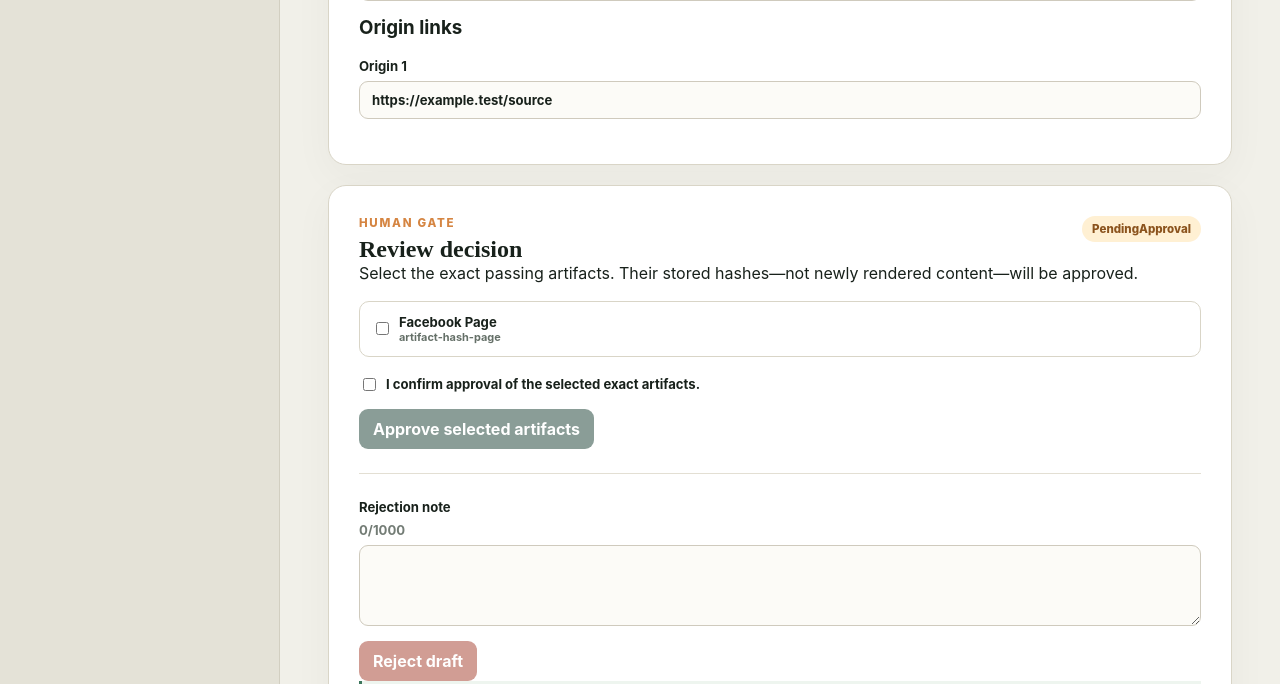
Test: Review dashboard UI › requires exact selection and confirmation before exposing immutable export
(page scrolled)
Expected: the heading "Review decision" is shown, left=359, top=236, right=522, bottom=263
Expected: the button "Approve selected artifacts" is disabled, left=359, top=409, right=594, bottom=449
Click the checkbox labelled "Facebook Page artifact-hash-page" at (382, 329), box left=376, top=322, right=389, bottom=335
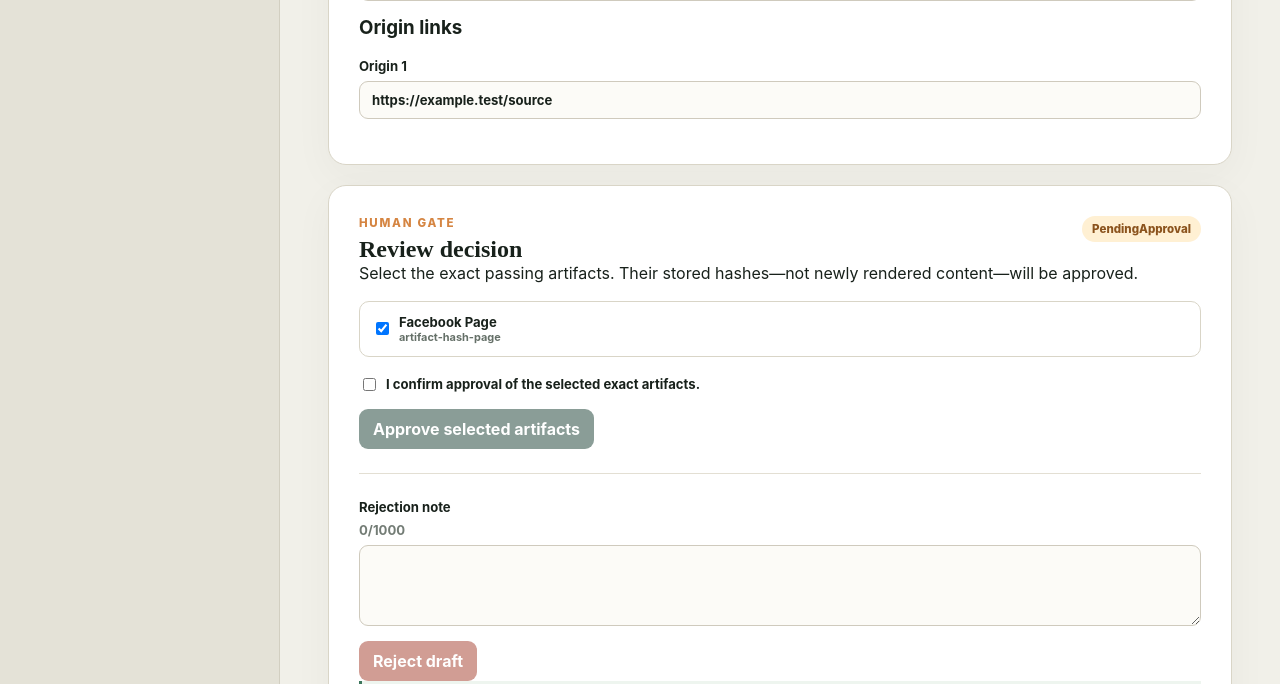
Expected: the button "Approve selected artifacts" is disabled, left=359, top=409, right=594, bottom=449
Click the checkbox labelled "I confirm approval of the selected exact artifacts." at (370, 384), box left=363, top=378, right=376, bottom=391
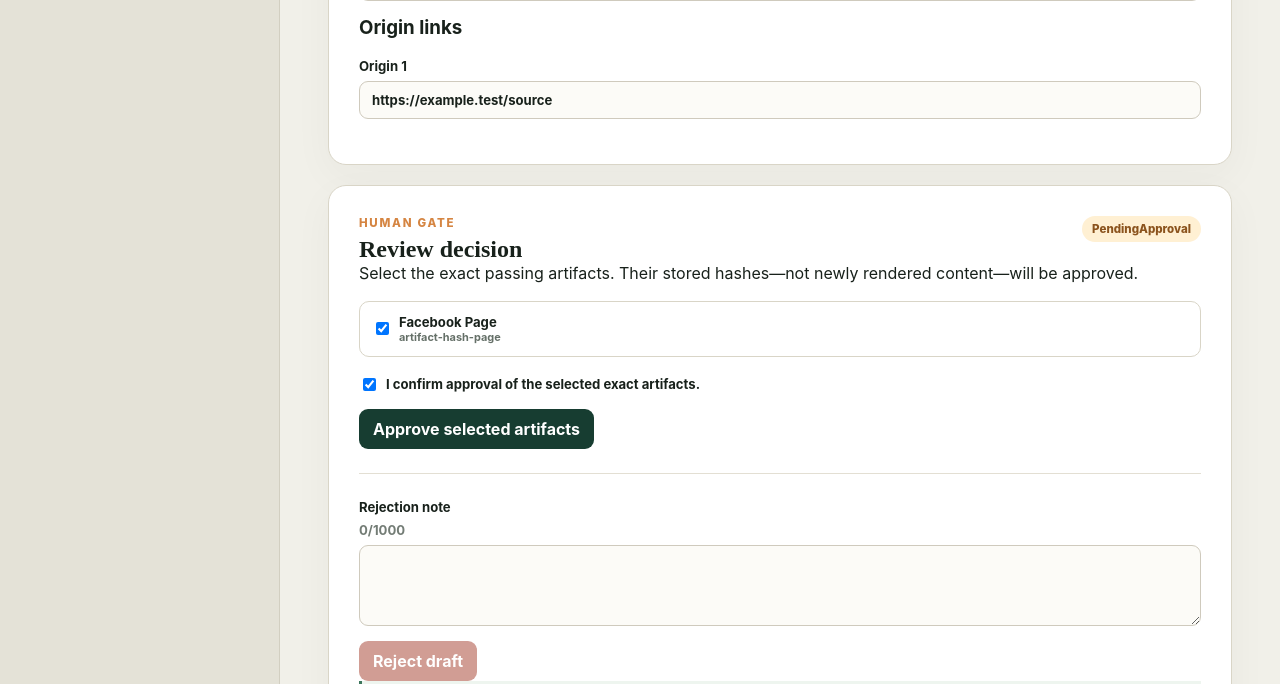
Click the button "Approve selected artifacts" at (476, 429), box left=359, top=409, right=594, bottom=449
(page scrolled)
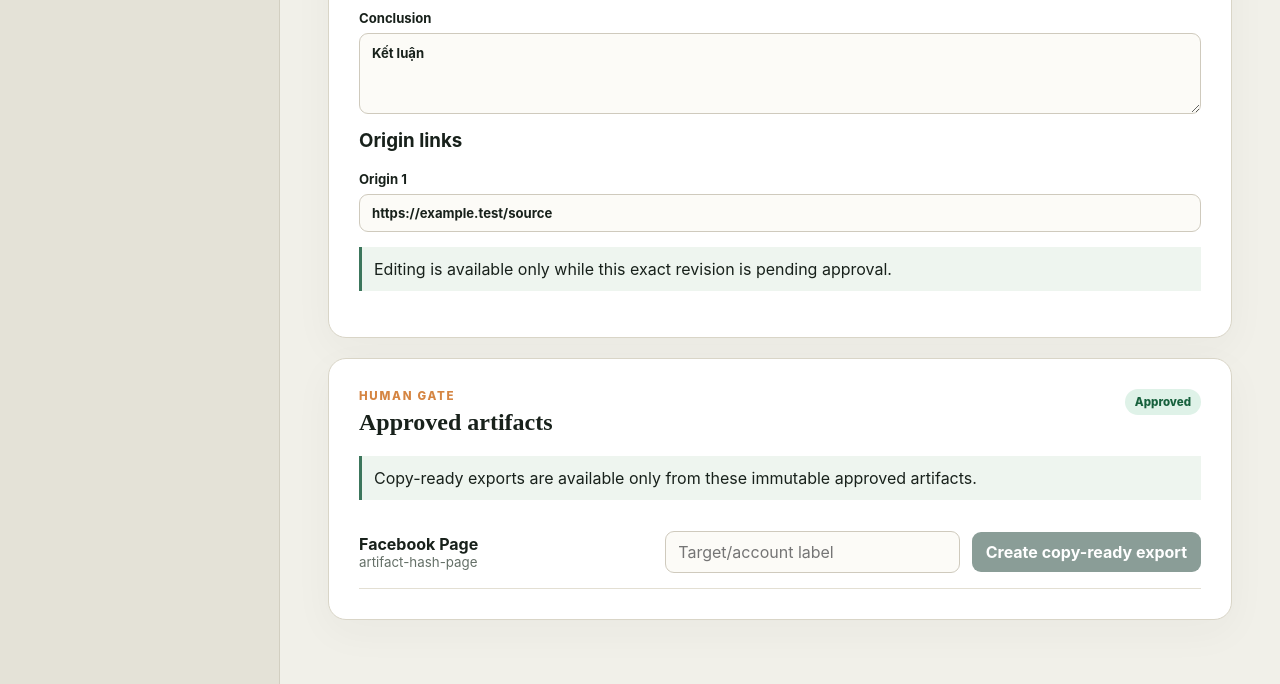
Result: the heading "Approved artifacts" is shown at left=359, top=409, right=552, bottom=436
Type "page-main" into the field named "Target for Facebook_Page" at (812, 552), box left=665, top=531, right=960, bottom=573
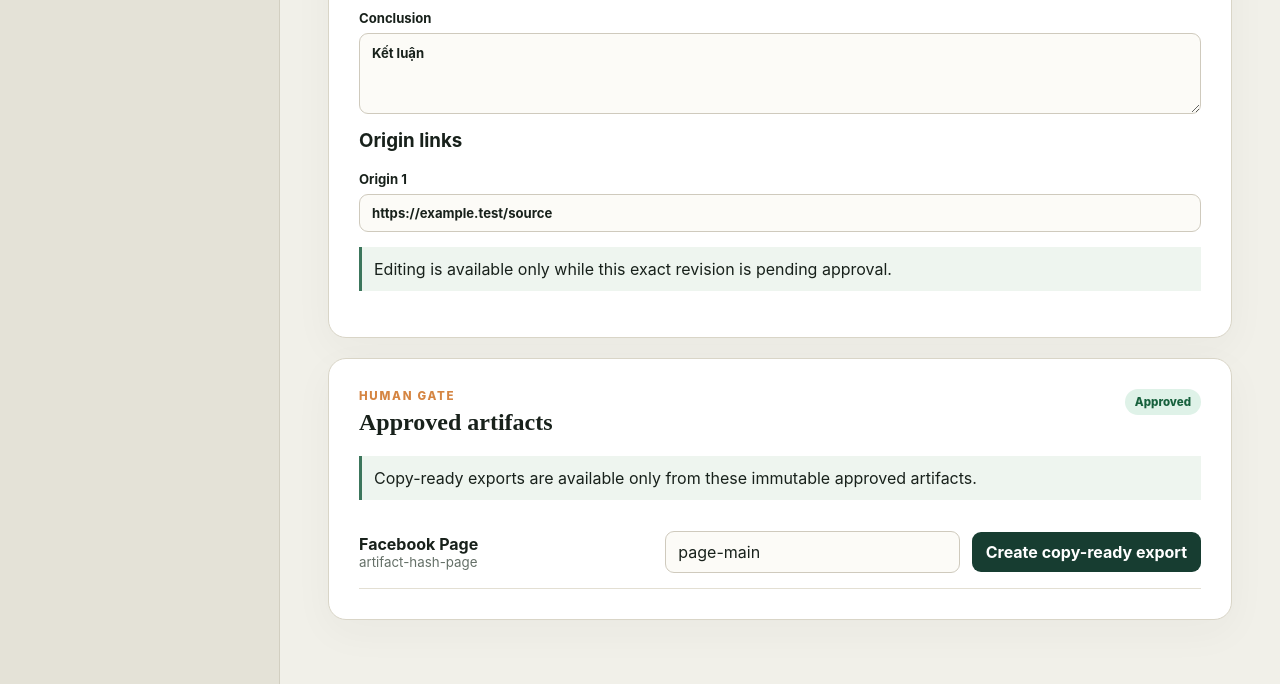
Click the button "Create copy-ready export" at (1086, 552), box left=972, top=532, right=1201, bottom=572
(page scrolled)
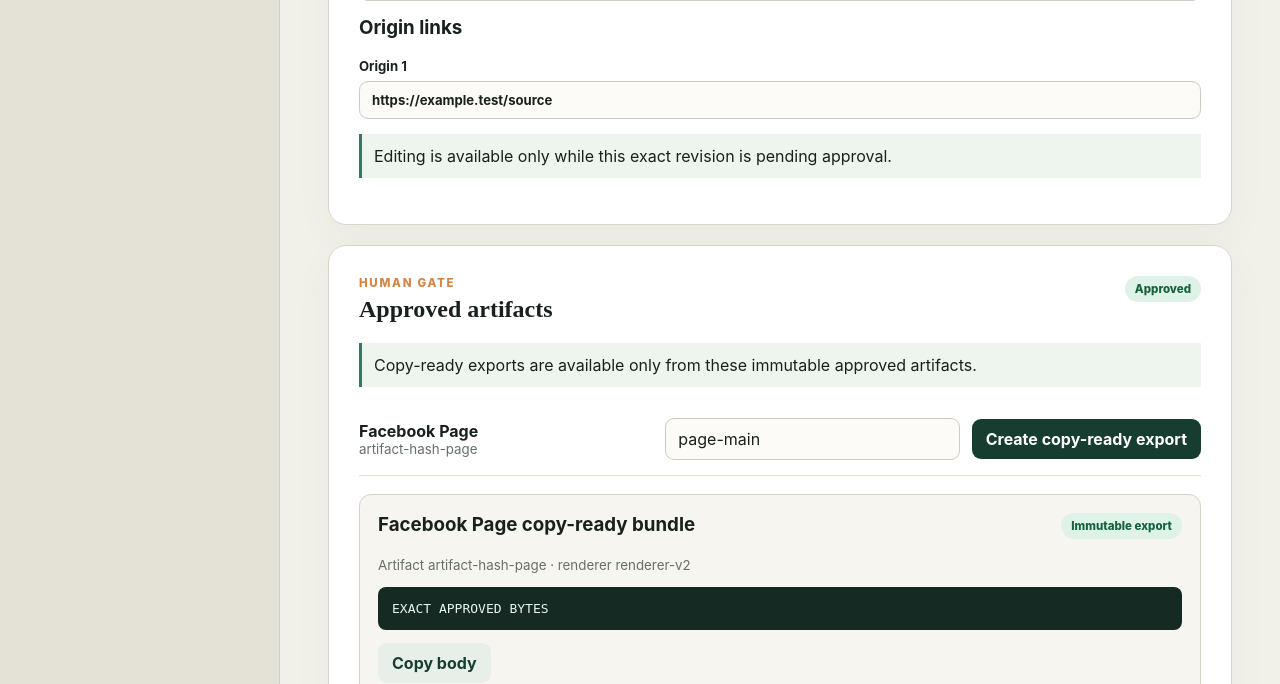
Result: the text "EXACT APPROVED BYTES" is shown at left=378, top=587, right=1182, bottom=630
